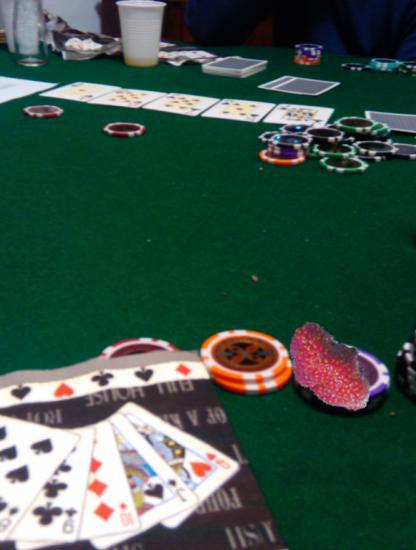Strawberry: (278, 317, 382, 421)
